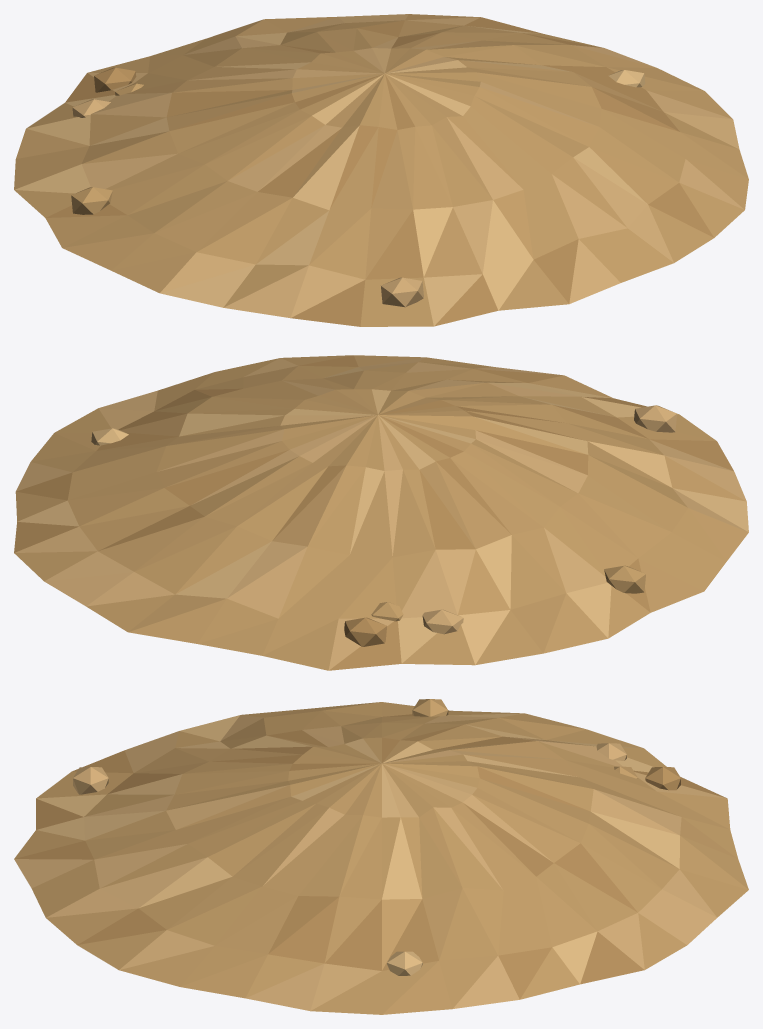
File: LooseSand.glb
The picture shows the model from 3 angles, top to bottom: view 1: azimuth 30°, elevation 25°; view 2: azimuth 150°, elevation 25°; view 3: azimuth 270°, elevation 25°; orthographic projection.
Parts seen in each view (by area): view 1: LooseSand; view 2: LooseSand; view 3: LooseSand.
Boxes of the visible parts, x1,y1,x2,y2 form: LooseSand: (14,14,748,326); LooseSand: (14,355,748,670); LooseSand: (14,699,748,1014).
Bounding box in the file's own units: 3.16 × 0.45 × 3.14.
